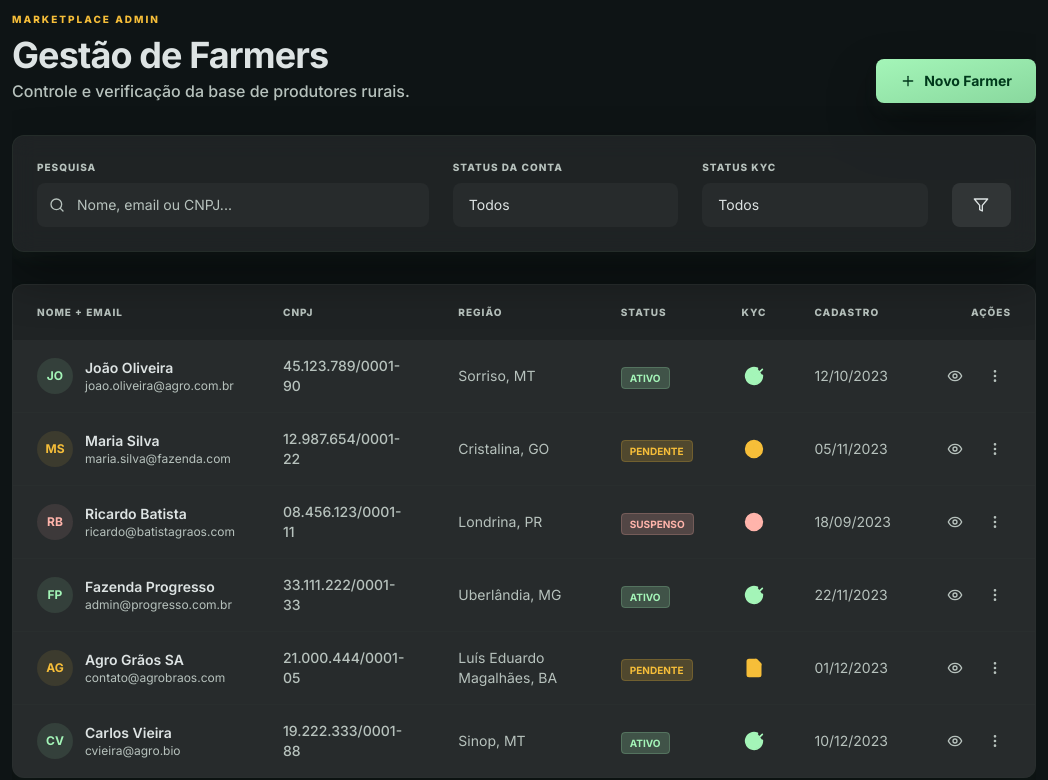
it: FarmersPage › should filter farmers by search term
The width and height of the screenshot is (1048, 780).
Note: Type a search term that matches no farmer
Type "xyznonexistent999" into the field with placeholder "Nome, email ou CNPJ...". click: (233, 205)
box: [37,183,429,227]
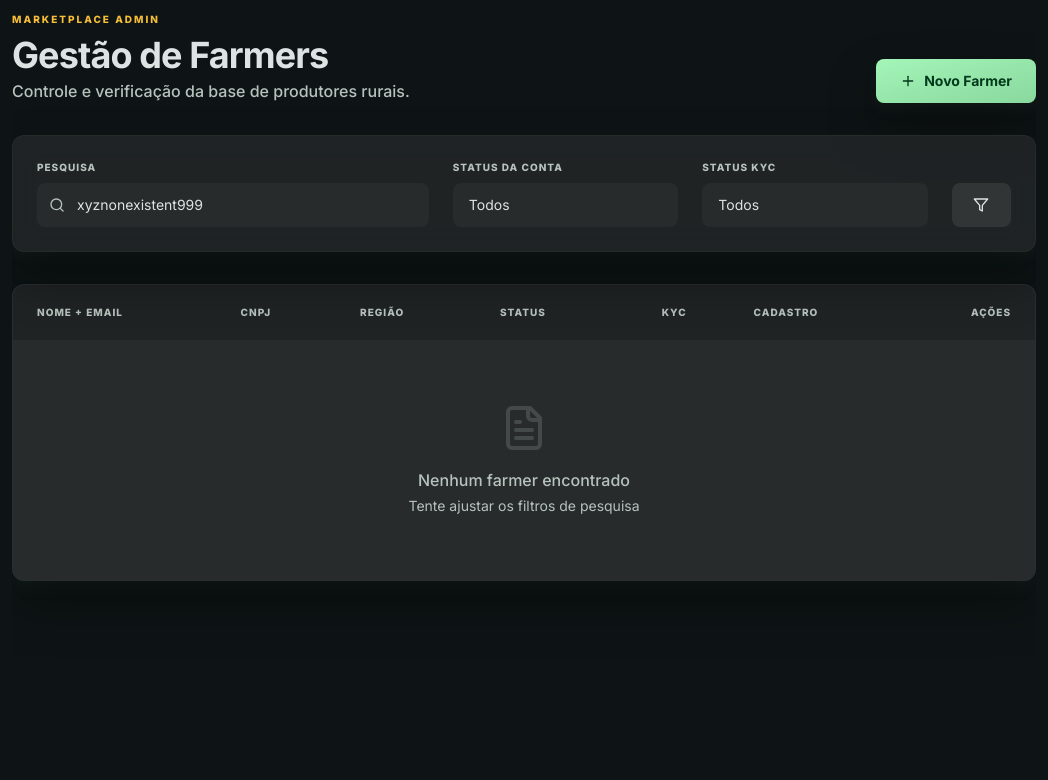
Check: the text "Nenhum farmer encontrado" is shown, box [418,470,630,490]
